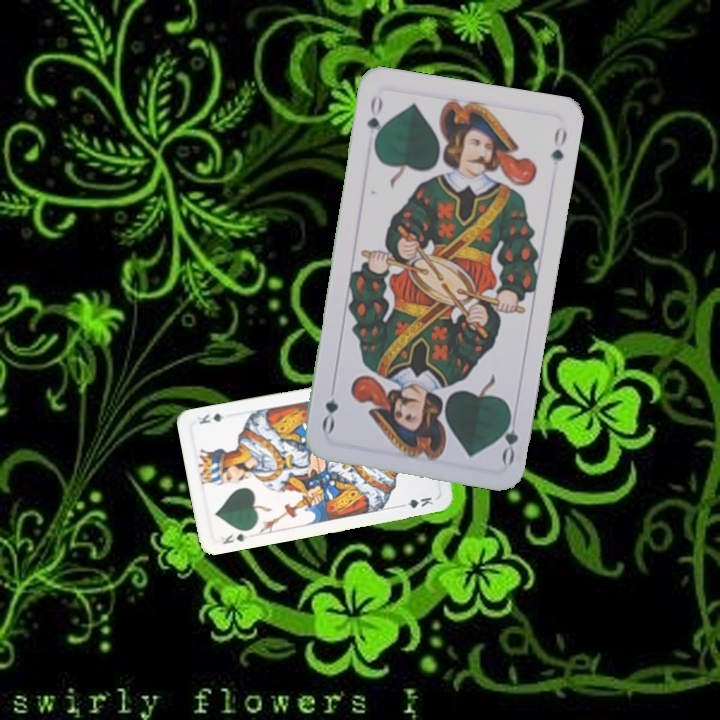GK: (219, 528, 250, 547)
GO: (495, 406, 521, 466), (362, 91, 386, 150)
